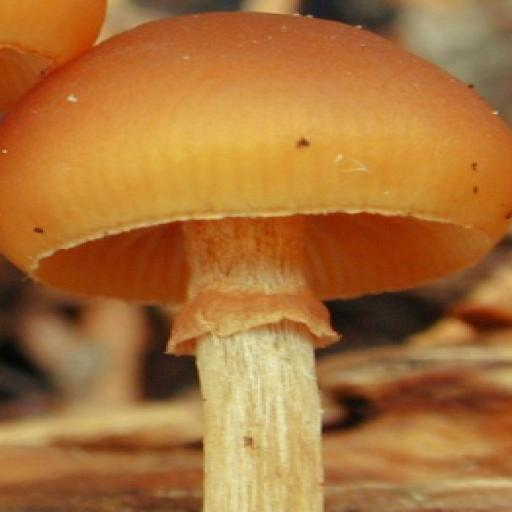mushroom: (10, 6, 512, 404)
